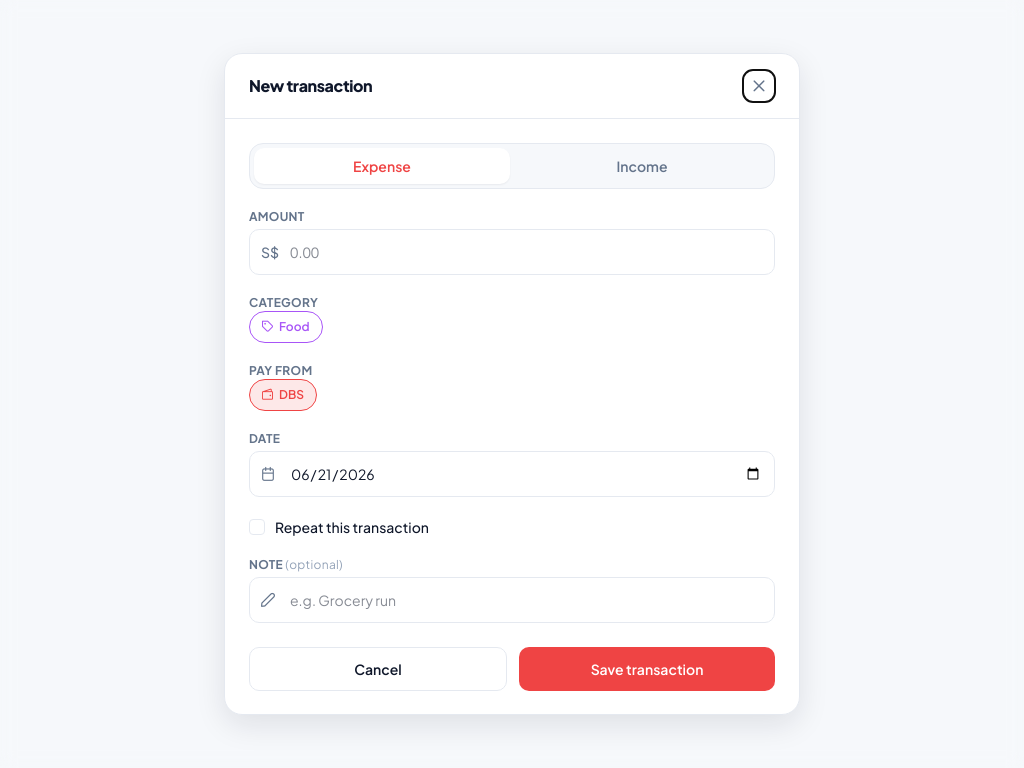
Test: AddTransactionModal › switches to income categories when Income tab is clicked
Click the button "Income" at (642, 166), box [514,148,770,184]
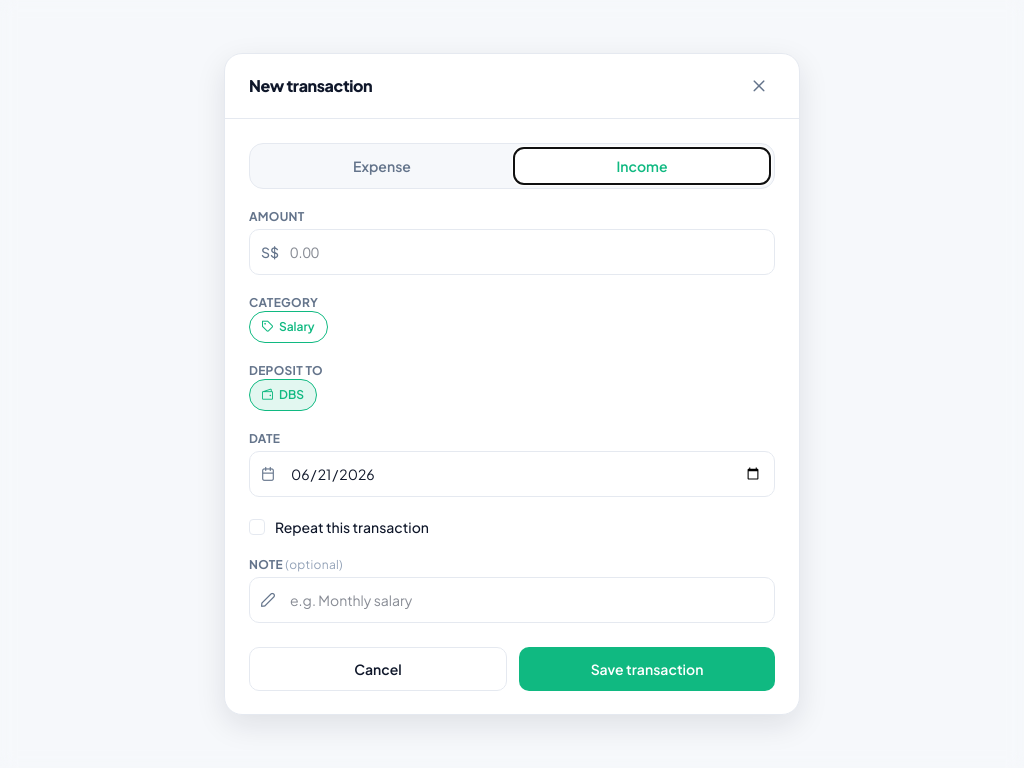
Expected: the button "Salary" is shown, [249,311,328,343]
Expected: the button "Food" is gone
